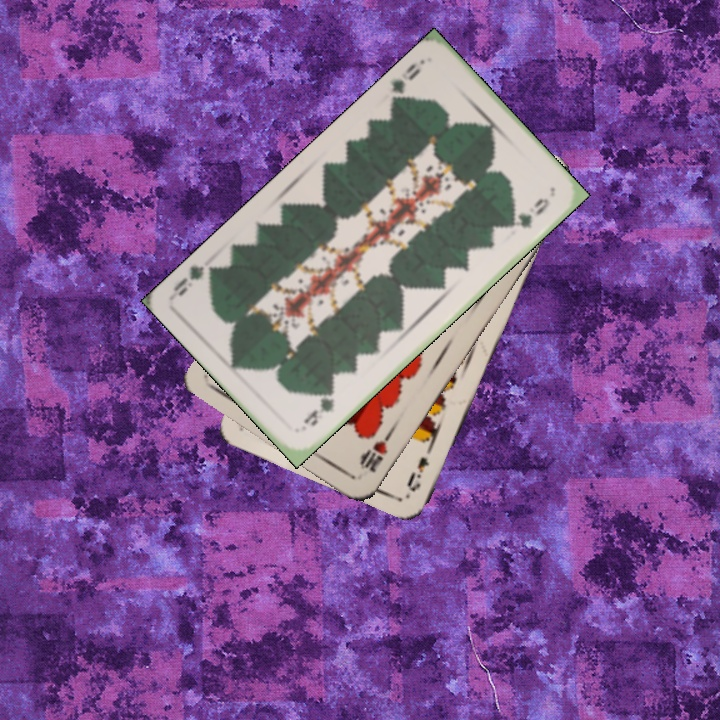E9: (402, 441, 435, 494)
G9: (387, 58, 423, 109), (299, 387, 337, 429)
H10: (355, 426, 395, 476)
